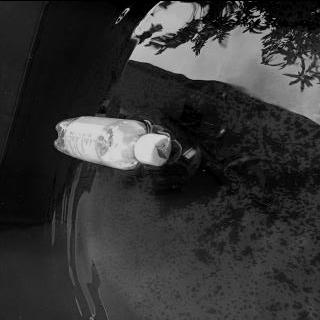bottle: (53, 114, 173, 170)
